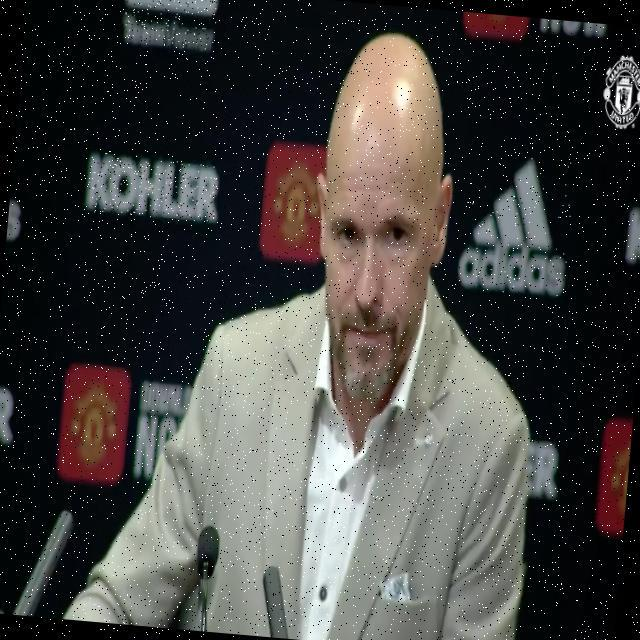Adidas: (456, 152, 575, 298)
Kohler: (86, 151, 220, 223)
TeamViewer: (122, 0, 218, 50)
